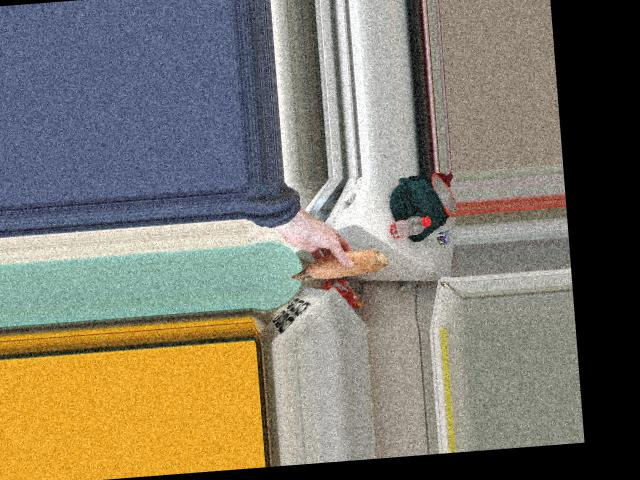sweet_potato: (290, 242, 393, 288)
